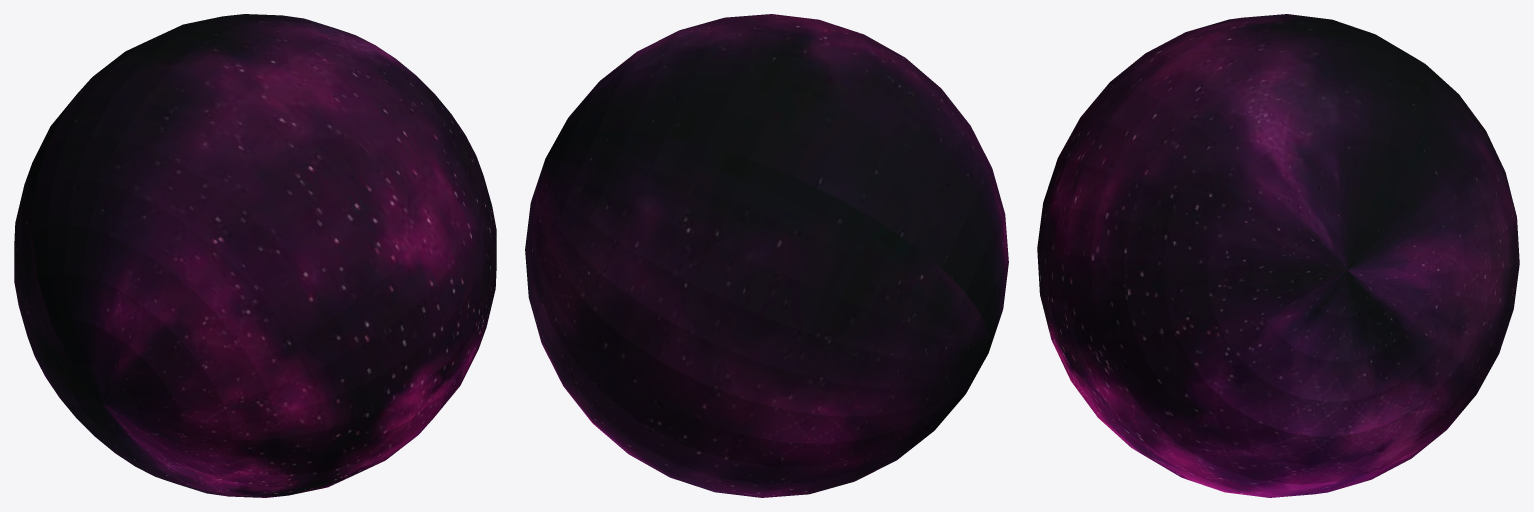
File: tree_planter_with_grate_free_low_poly.glb
3 renders of one model, left to right at view 1: azimuth 30°, elevation 25°; view 2: azimuth 150°, elevation 25°; view 3: azimuth 270°, elevation 25°, orthographic.
Visible parts, largest first — view 1: Sphere_4; view 2: Sphere_4; view 3: Sphere_4.
Boxes of the visible parts, <box> form: Sphere_4: <box>14,14,496,497</box>; Sphere_4: <box>525,14,1008,497</box>; Sphere_4: <box>1037,14,1519,497</box>.
Bounding box in the file's own units: 1155 × 1157 × 1153.
5 materials, 5 textured.
